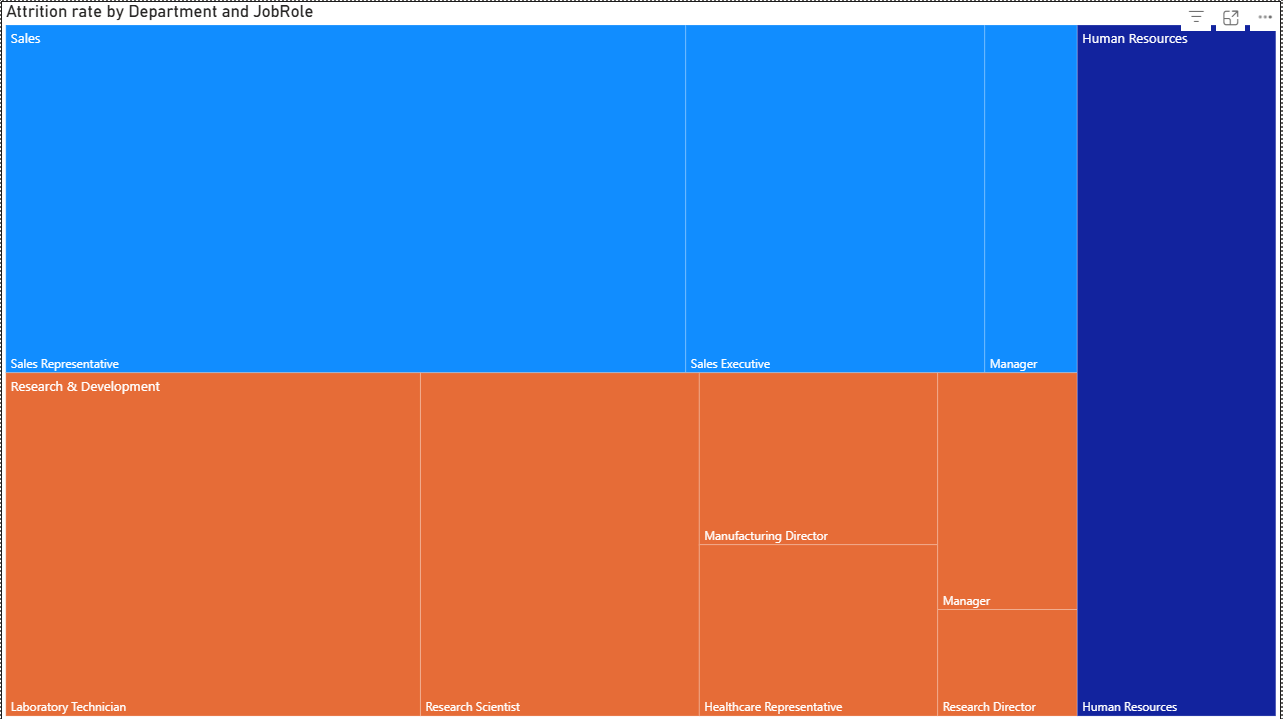

What the dashboard file says about the page in this screenshot:
{"tool":"powerbi","page":{"name":"Attrition","canvas":[1280,720],"ordinal":2},"visuals":[{"type":"treemap","title":"Attrition rate by Department and JobRole","fields":{"Values":["Rh_analytics.Taux_Attrition"],"Group":["Rh_analytics.Department"],"Details":["Rh_analytics.JobRole"]},"box":[0,0,1280,720.3],"z":0}]}

Visuals, with their boxes on the page's 1280x720 design canvas (x1, y1, x2, y2). These are canvas units, not pixel positions in the 1283x719 screenshot, which may show the page scaled, cropped or inside an application window:
"Attrition rate by Department and JobRole" treemap: x1=0, y1=0, x2=1280, y2=720
